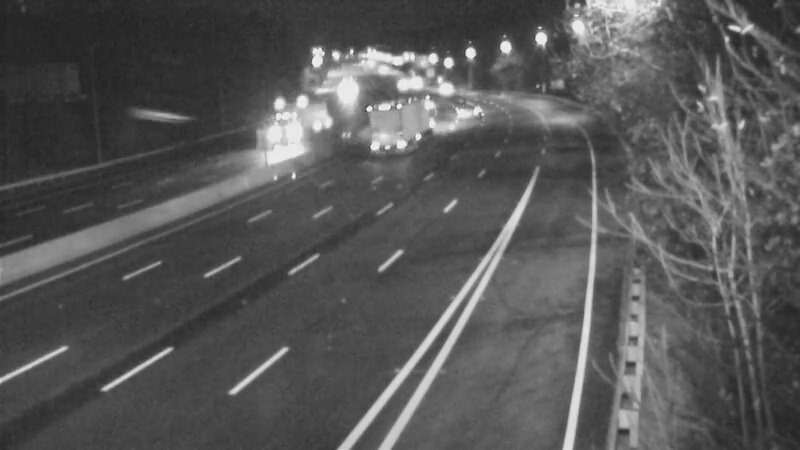vehicle: (424, 65, 474, 115), (443, 82, 493, 132), (400, 77, 450, 127), (371, 93, 421, 143), (258, 107, 308, 157), (325, 63, 375, 113)
